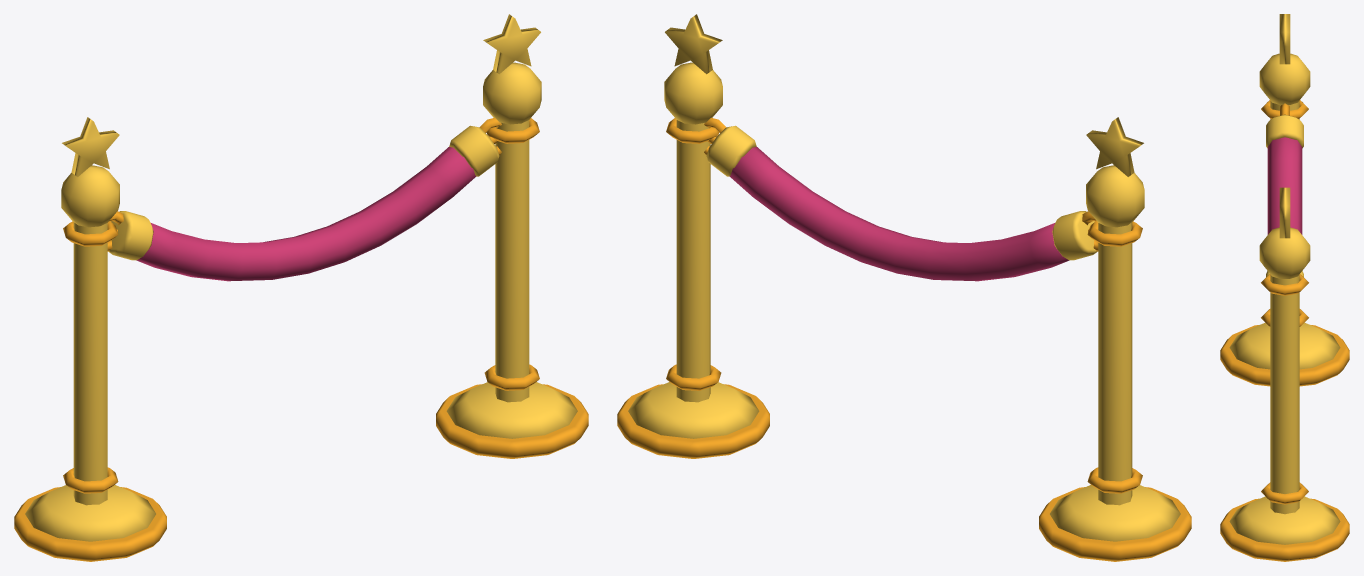
Rendered from velvet_rope.glb.
3 views of the same model, side by side, from view 1: azimuth 30°, elevation 25°; view 2: azimuth 150°, elevation 25°; view 3: azimuth 270°, elevation 25° (orthographic). The views are drawn at different scales.
Visible parts, largest first — view 1: VelvetRope.001; view 2: VelvetRope.001; view 3: VelvetRope.001.
Part boxes in pixels (x1,y1,x2,y2): VelvetRope.001: (14, 14, 588, 561); VelvetRope.001: (617, 14, 1191, 561); VelvetRope.001: (1220, 14, 1349, 561).
Size of the model in its own units: 1.31 by 0.9355 by 0.3138.
